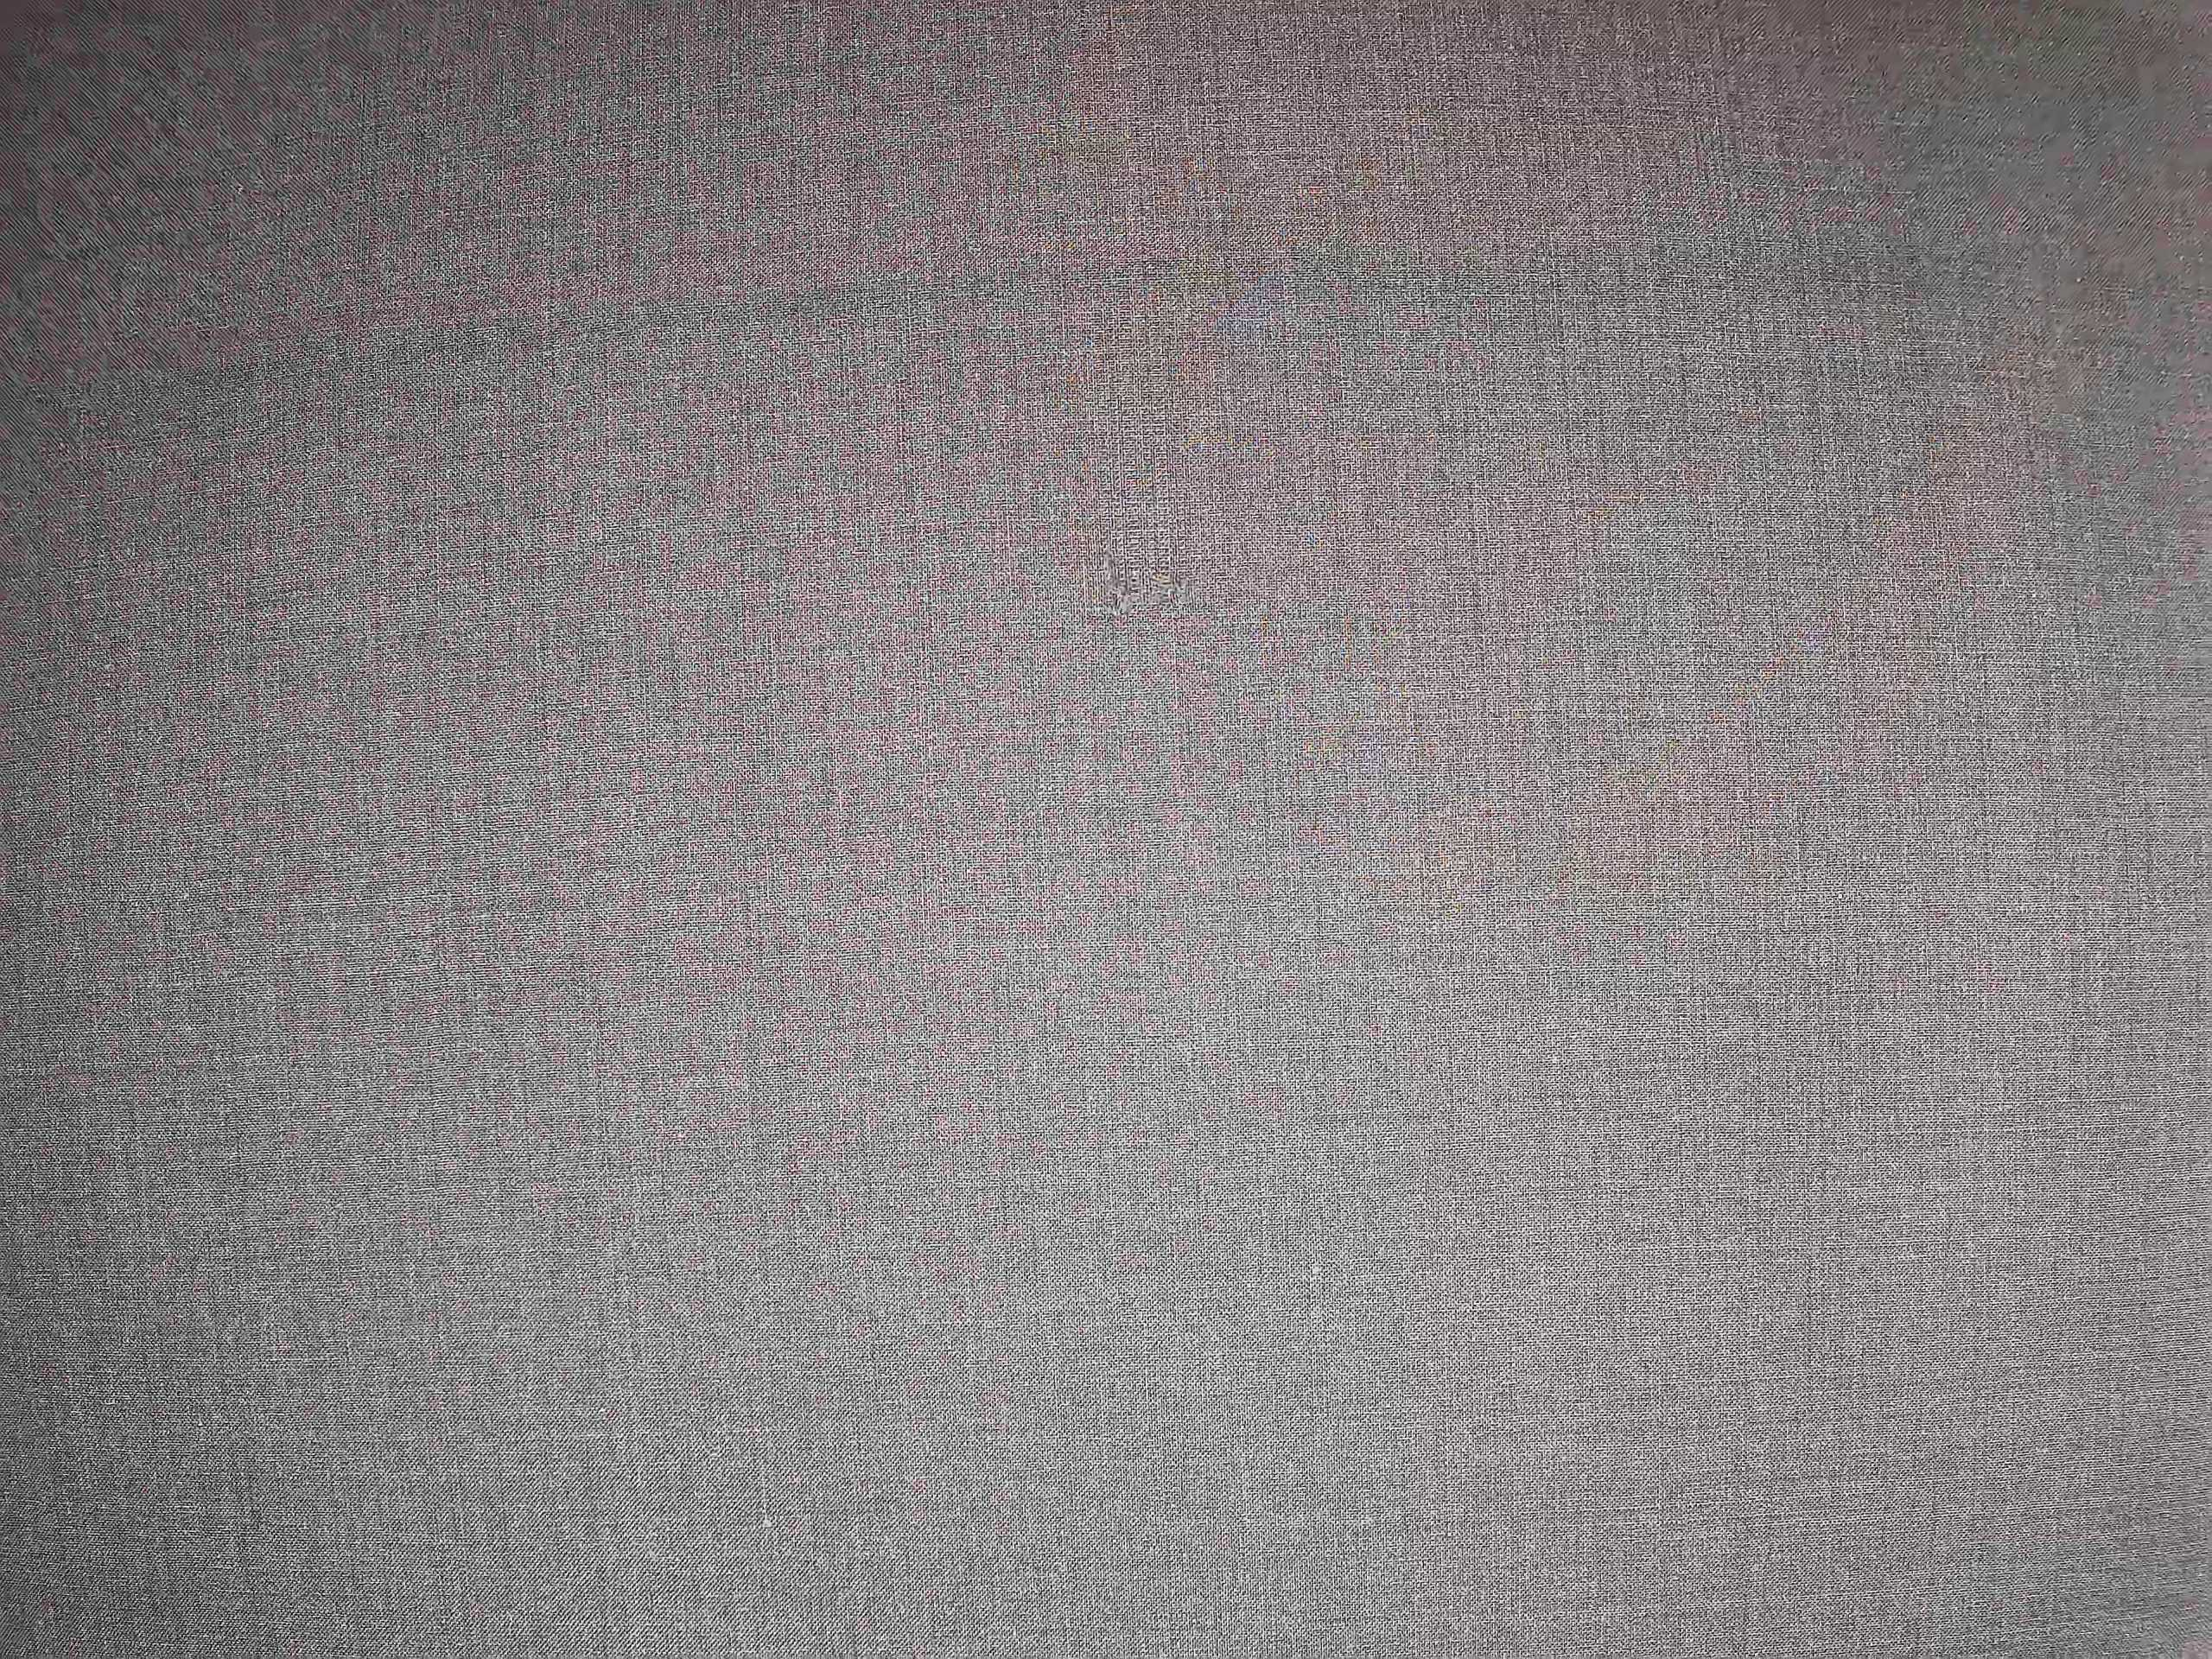thin-spinning: (1085, 239, 1198, 667)
